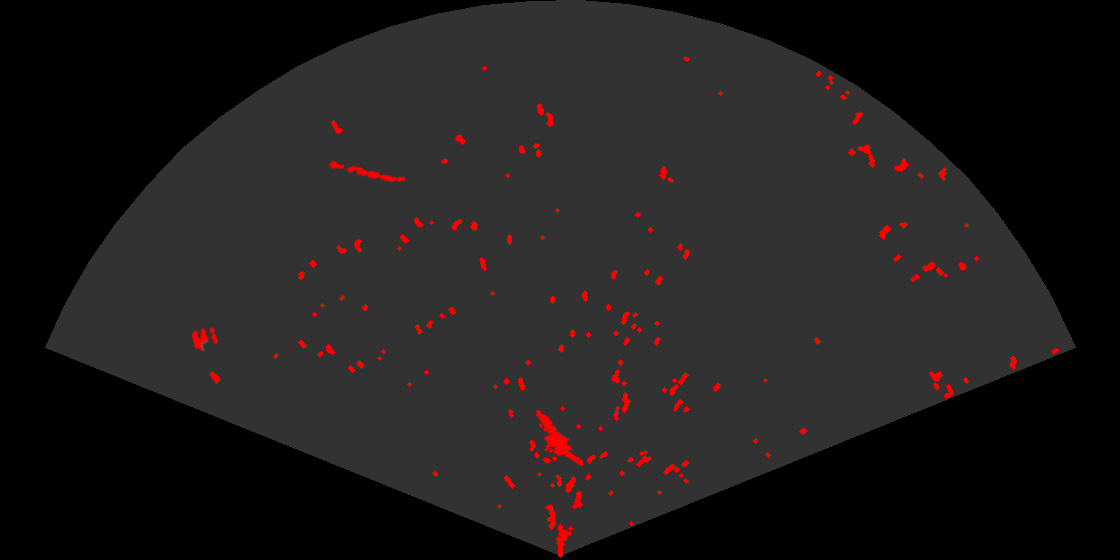ball: (190, 325, 219, 353)
chain: (324, 159, 407, 184)
frogman: (534, 408, 583, 466)
